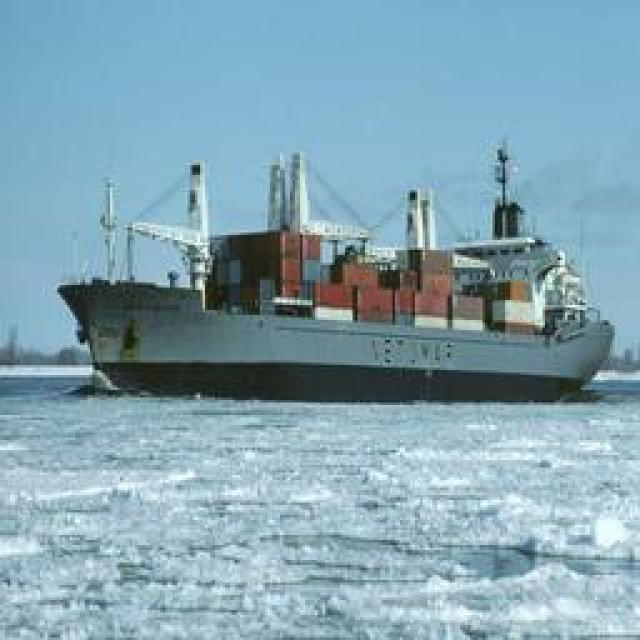CIV_Ship: (71, 135, 619, 395)
